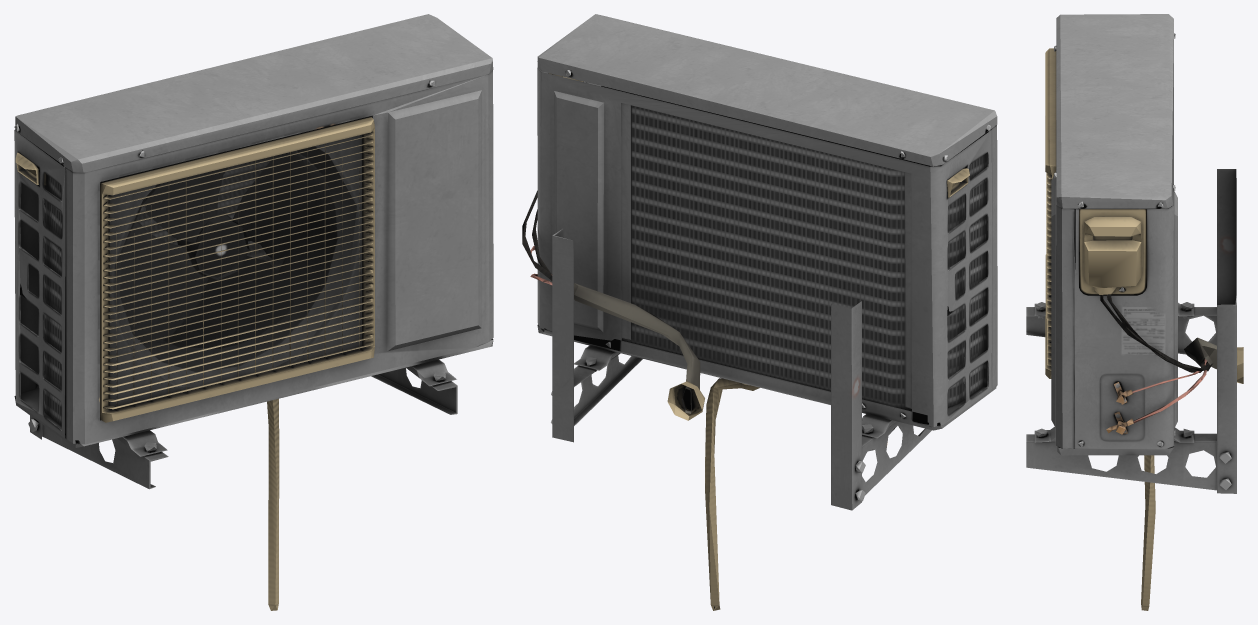
The model's file is exterior_aircon_unit_lod2.fbx.
3 renders of one model, left to right at view 1: azimuth 30°, elevation 25°; view 2: azimuth 150°, elevation 25°; view 3: azimuth 270°, elevation 25°, orthographic. The views are drawn at different scales.
Parts seen in each view (by area): view 1: lod2; view 2: lod2; view 3: lod2.
Boxes of the visible parts, x1,y1,x2,y2 form: lod2: (14, 14, 493, 610); lod2: (522, 14, 997, 610); lod2: (1026, 14, 1243, 610).
Size of the model in its own units: 31.49 by 14.73 by 36.55.
